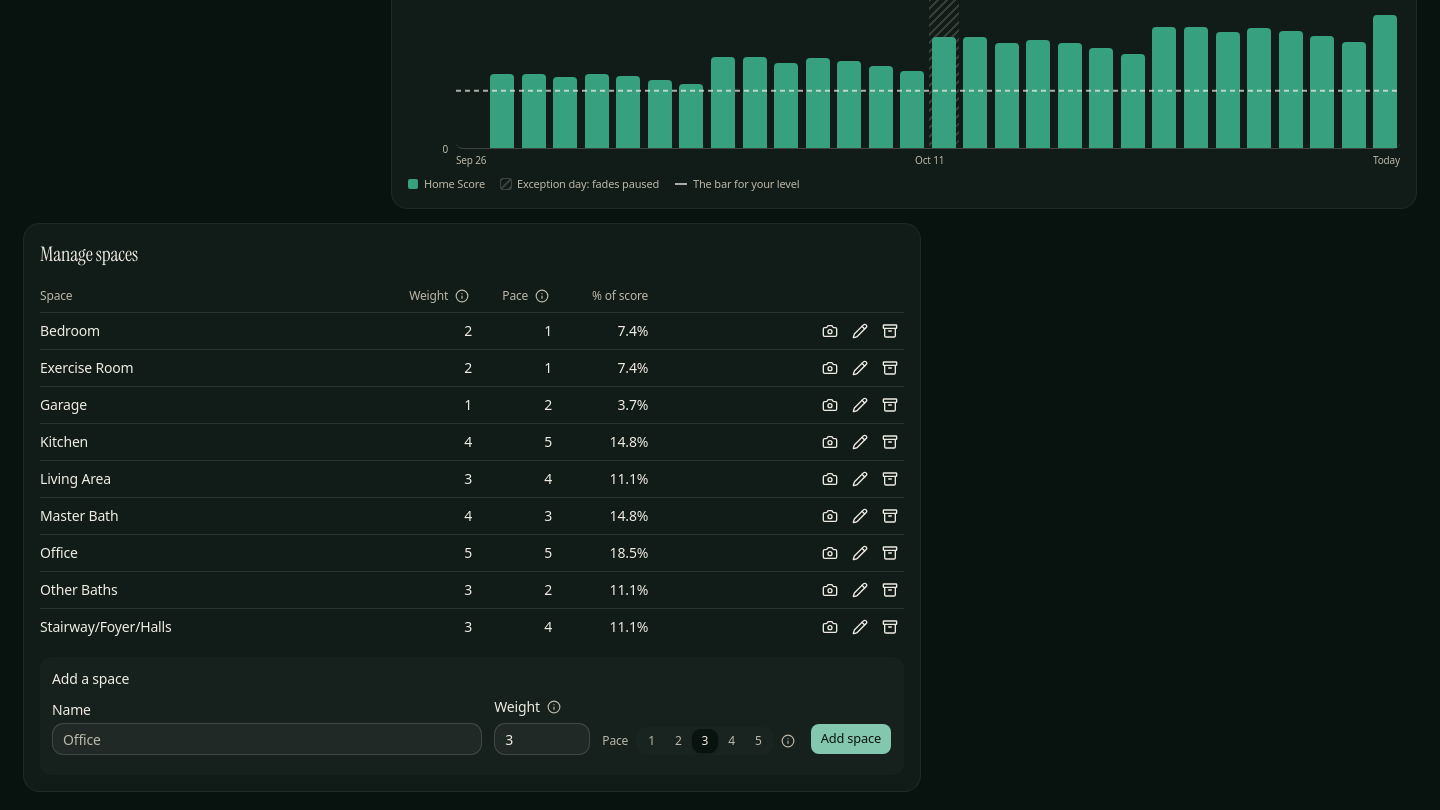
Test: Environment page: Manage spaces (HOME-1, Chris's "Environment Page cleanup") › changes a space in place: its row becomes the form, and Save puts the line back
This screenshot has width=1440, height=810.
(page scrolled)
Click the button named "Change Garage" at (860, 405), box [846,391,874,419]
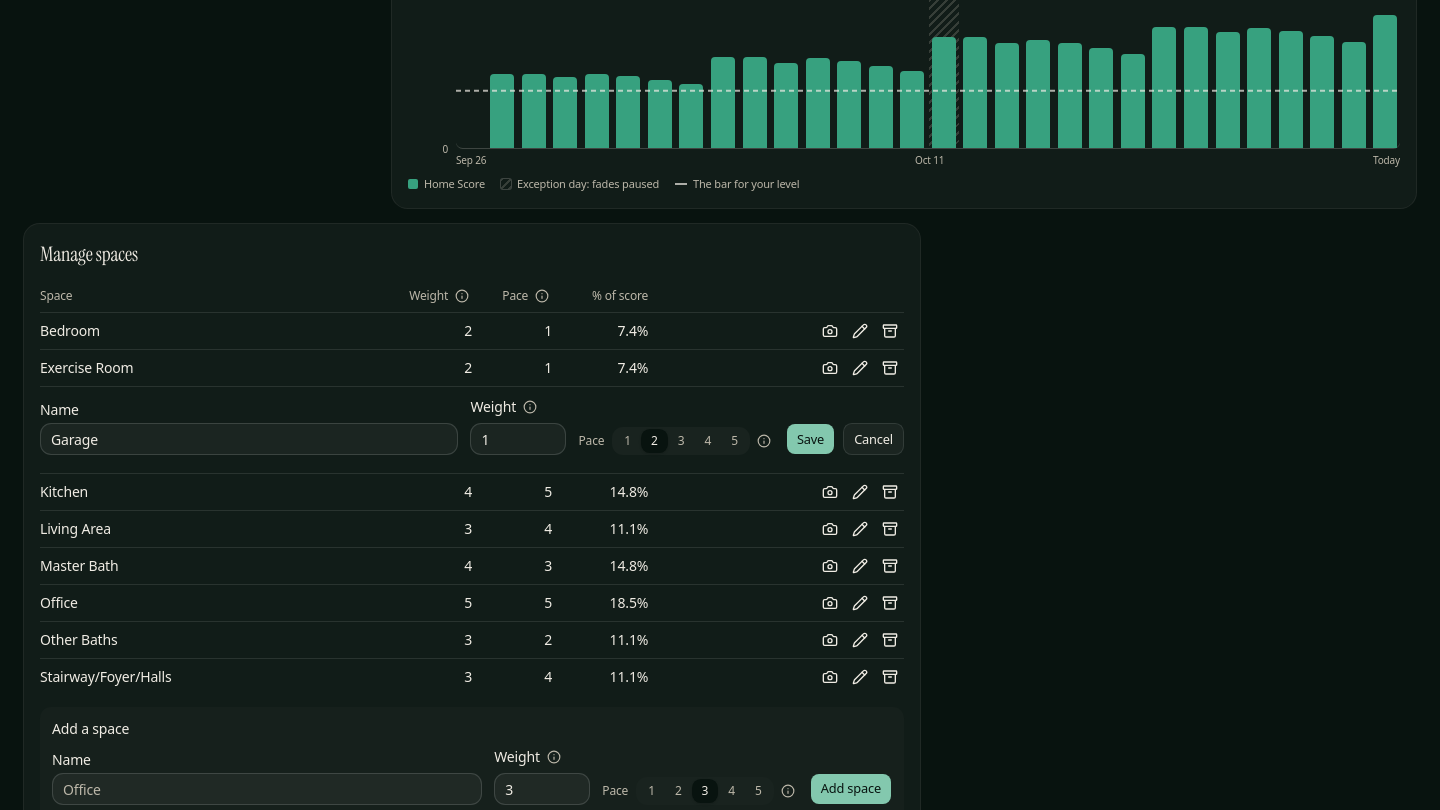
Replace the text in the 1st number field labelled "Weight" with "3" at (518, 439), box [470,423,566,455]
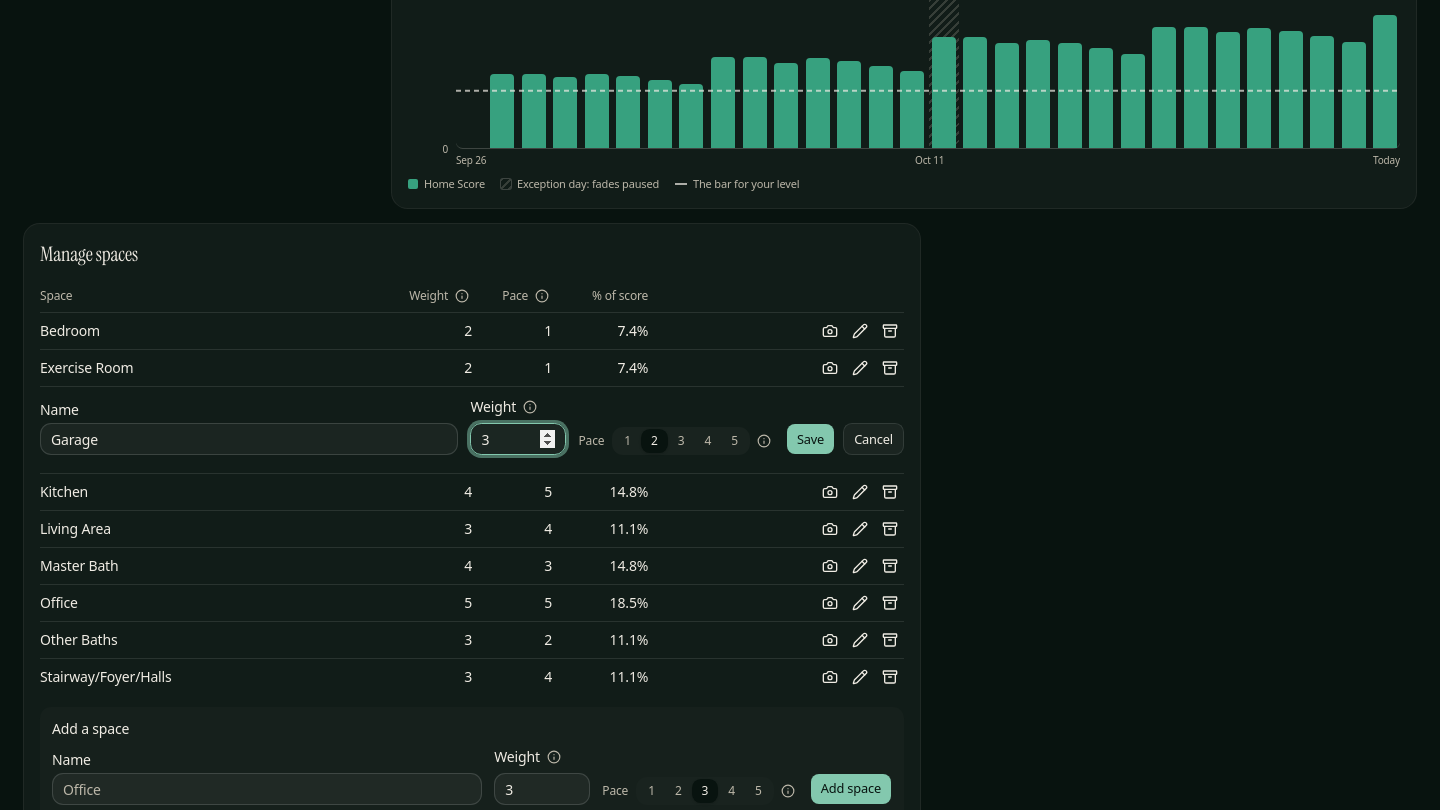
Click the button "Save" at (811, 439), box [786,423,835,455]
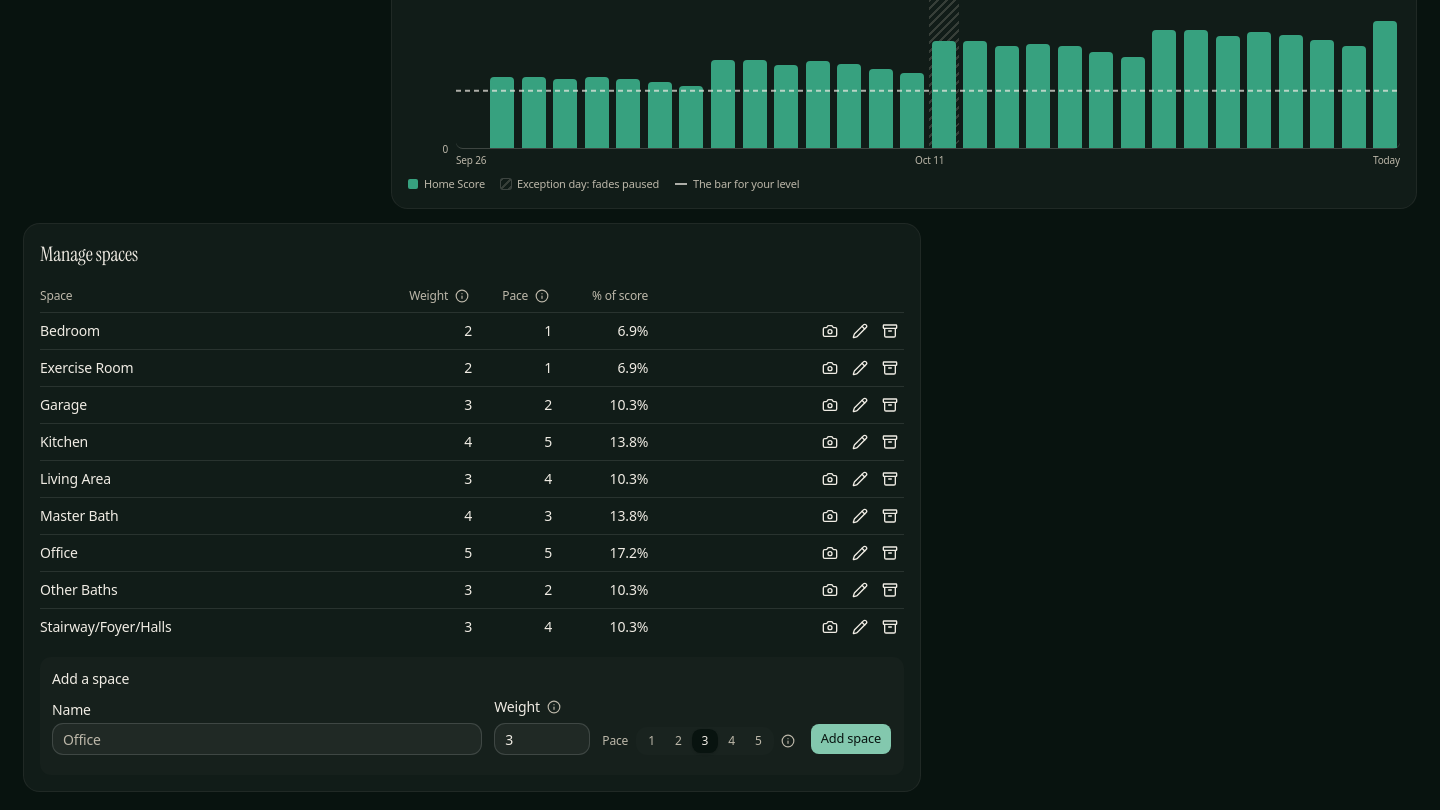
Expected: the 1st cell with test id "space-weight" reads "3", [464,395,472,414]
